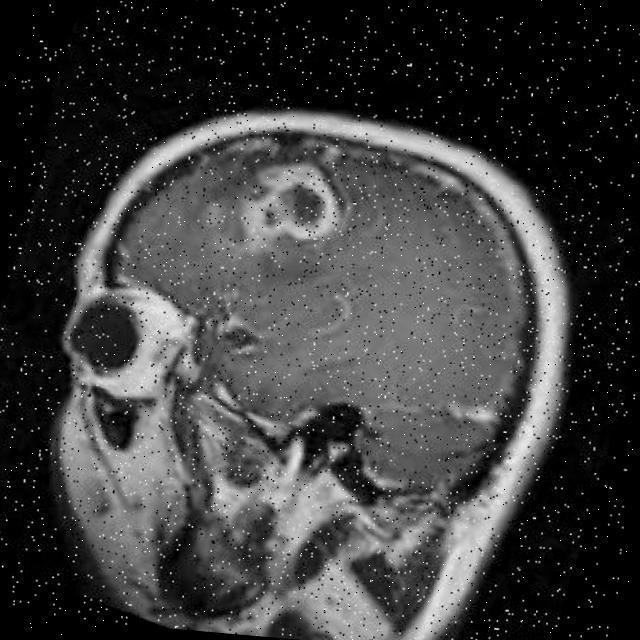EMCI: (209, 128, 375, 292)
